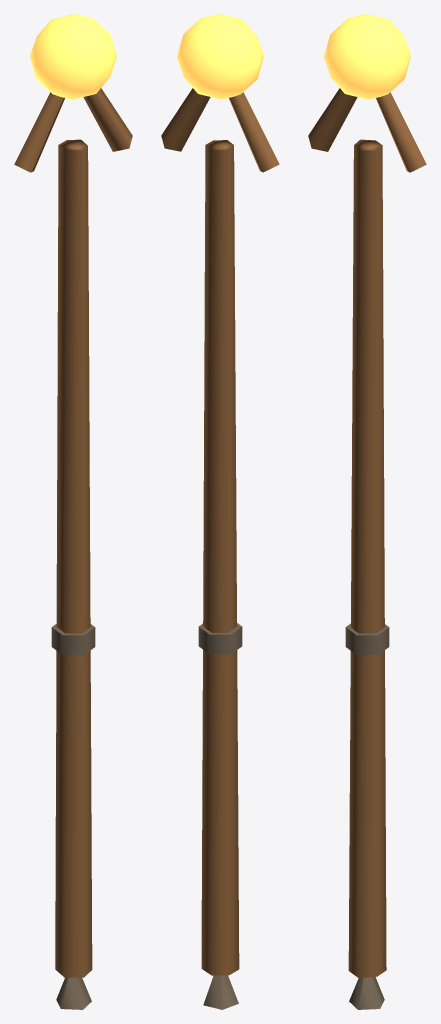
The model's file is weapon_staff_t1.glb.
3 views of the same model, side by side, from view 1: azimuth 30°, elevation 25°; view 2: azimuth 150°, elevation 25°; view 3: azimuth 330°, elevation 25° (orthographic).
Parts seen in each view (by area): view 1: item_wood1, staffOrb_staffOrb1, item_trim1; view 2: item_wood1, staffOrb_staffOrb1, item_trim1; view 3: item_wood1, staffOrb_staffOrb1, item_trim1.
Part boxes in pixels (box(x1,y1,x2,y2)): item_wood1: box(14, 88, 132, 977); staffOrb_staffOrb1: box(30, 14, 116, 99); item_trim1: box(51, 624, 95, 1009); item_wood1: box(161, 88, 279, 975); staffOrb_staffOrb1: box(177, 14, 263, 99); item_trim1: box(198, 623, 242, 1009); item_wood1: box(308, 88, 426, 977); staffOrb_staffOrb1: box(324, 14, 410, 99); item_trim1: box(345, 623, 389, 1009).
Bounding box in the file's own units: 0.1883 × 1.5 × 0.12.
